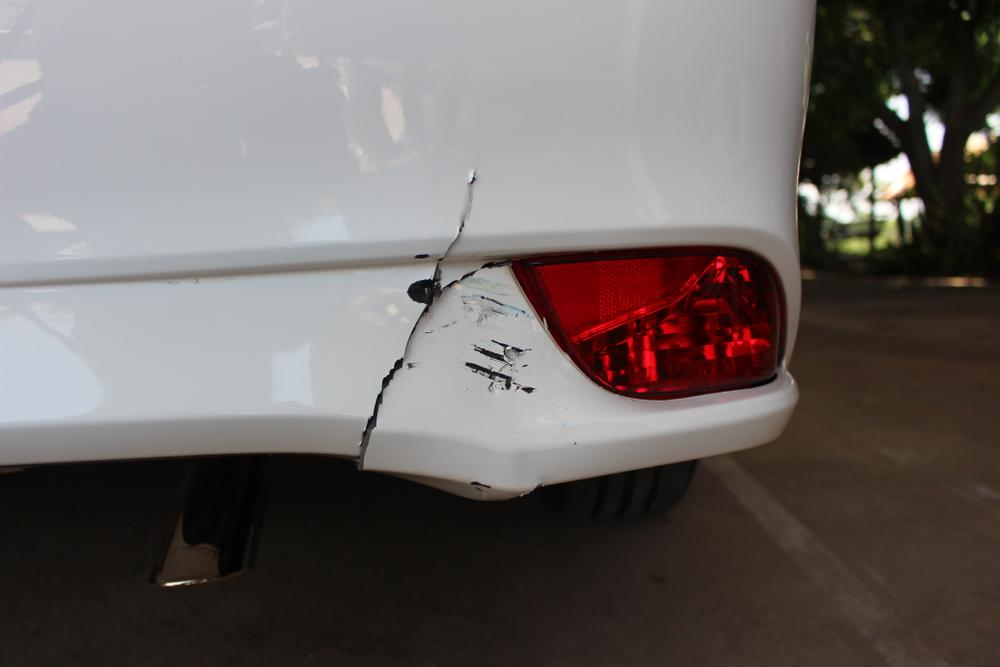crack: (355, 169, 514, 467)
scratch: (455, 276, 540, 397)
